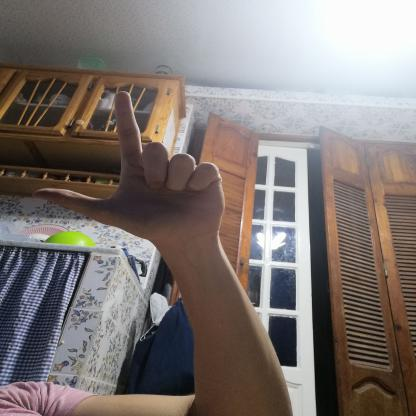LAAM: (18, 80, 242, 258)
